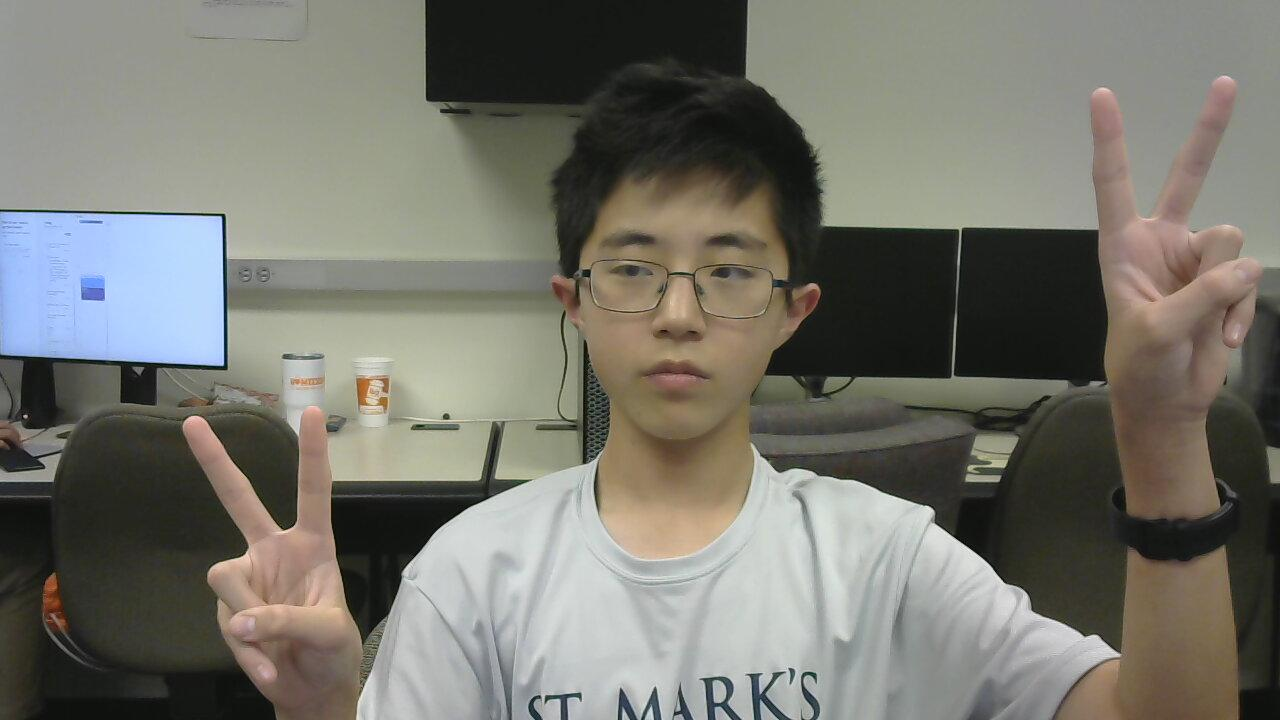peace: (1056, 52, 1270, 420), (166, 402, 371, 699)
